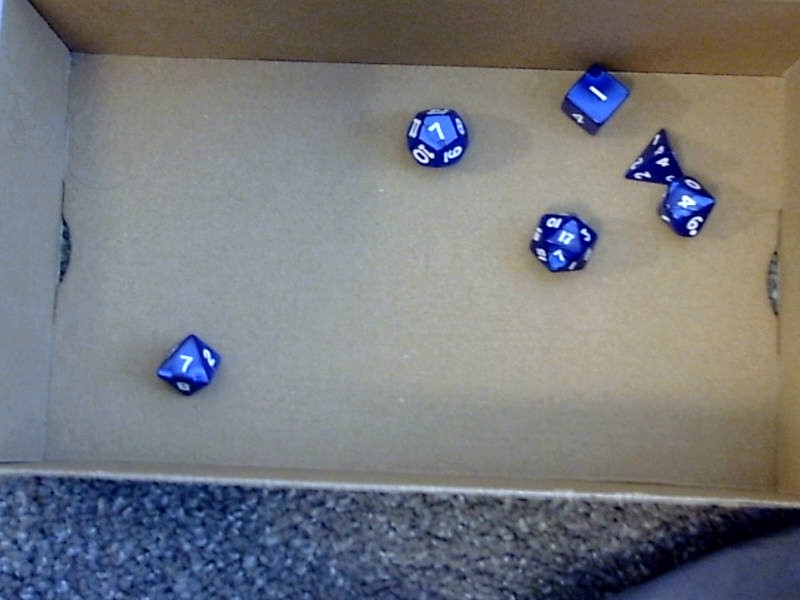d10 4: (657, 179, 724, 239)
d12 7: (400, 103, 471, 168)
d20 17: (526, 207, 600, 274)
d4 4: (622, 125, 685, 183)
d6 1: (558, 62, 631, 136)
d8 7: (154, 328, 224, 398)
